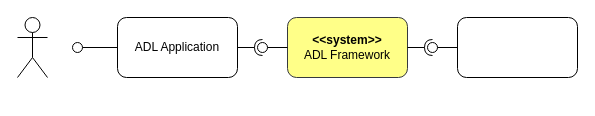
Image size: 595x116. Some labels were removed from this diagram. The box of each missing label's shape, as (x1, y1, x2, y2) in pixels:
Graphic API Provider: (456, 16, 578, 78)
User: (16, 16, 48, 78)
